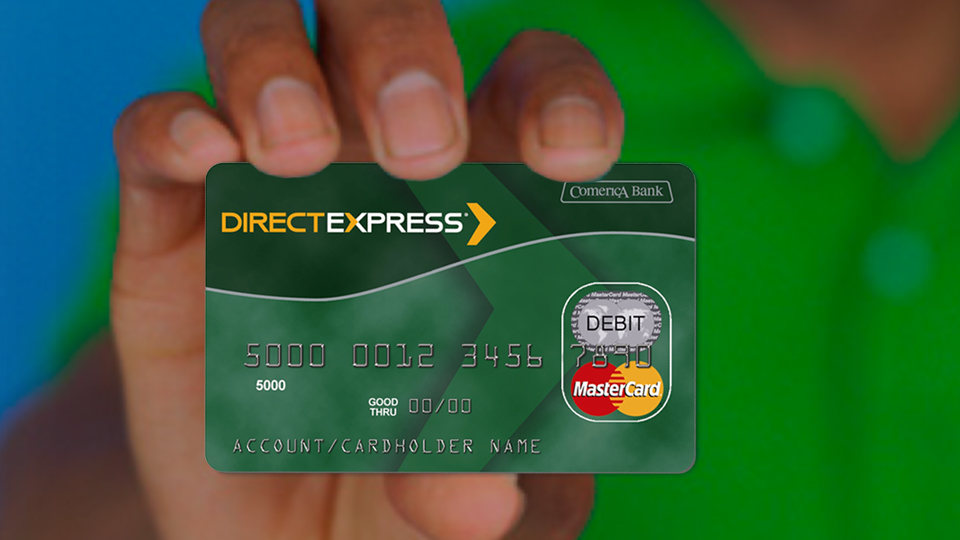tarjeta: (201, 160, 701, 477)
